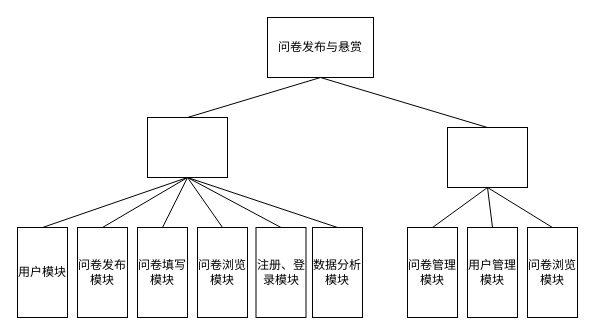
This 595x335 diagram has some shape labels left out. Here are the shapes that lost their labels. From the top down, the centre of each, then its label:
At pixel 187 147: "前台".
At pixel 487 157: "后台".
